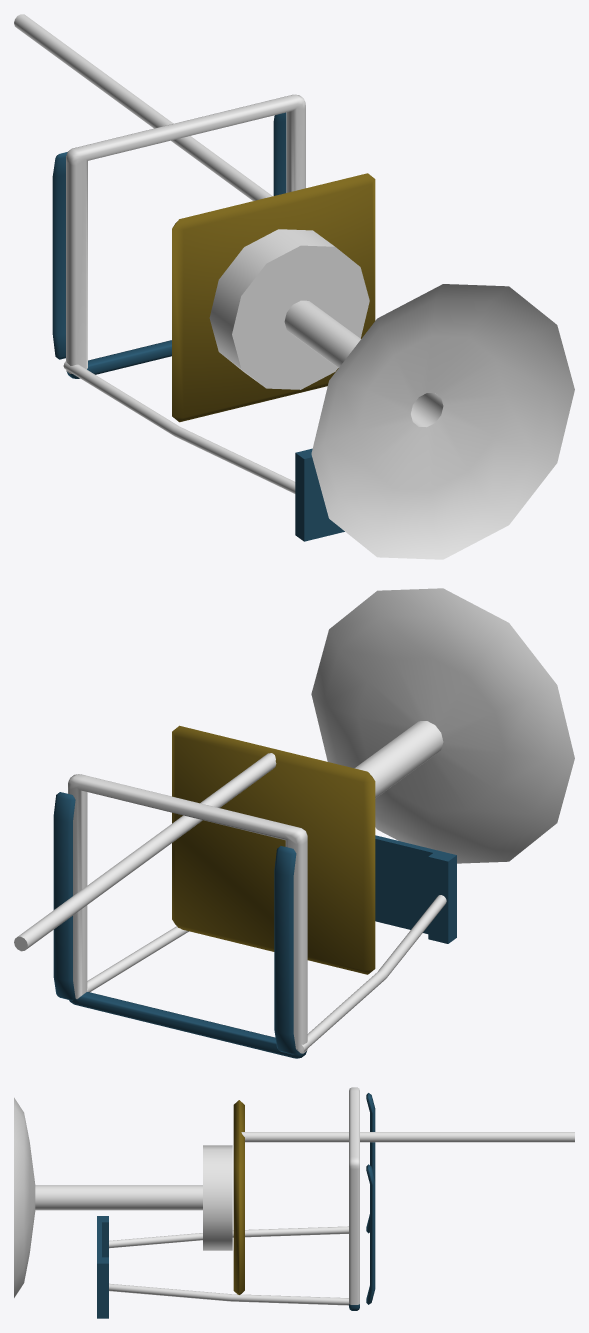
3 renders of one model, top to bottom at view 1: azimuth 30°, elevation 25°; view 2: azimuth 150°, elevation 25°; view 3: azimuth 270°, elevation 25°, orthographic. The views are drawn at different scales.
Parts seen in each view (by area): view 1: Circle; view 2: Circle; view 3: Circle.
Part boxes in pixels (x1=…): Circle: x1=14, y1=14, x2=574, y2=559; Circle: x1=14, y1=588, x2=574, y2=1058; Circle: x1=14, y1=1087, x2=574, y2=1318.
Bounding box in the file's own units: 53.94 × 55.72 × 150.
